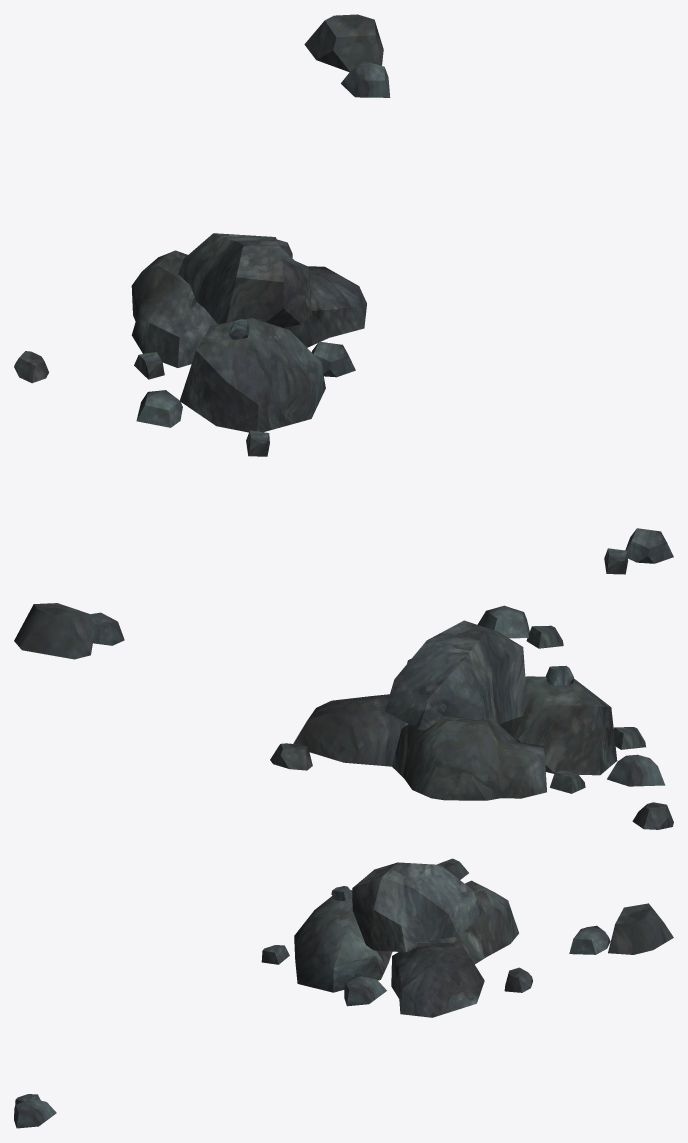
File: object_rubble33.fbx
3 views of the same model, one above another, from view 1: azimuth 30°, elevation 25°; view 2: azimuth 150°, elevation 25°; view 3: azimuth 270°, elevation 25° (orthographic). The views are drawn at different scales.
Visible parts, largest first — view 1: Material_#238683587/cliffside; view 2: Material_#238683587/cliffside; view 3: Material_#238683587/cliffside.
Boxes of the visible parts, bbox=[...] form: Material_#238683587/cliffside: bbox=[14, 14, 673, 574]; Material_#238683587/cliffside: bbox=[14, 603, 673, 829]; Material_#238683587/cliffside: bbox=[14, 858, 673, 1128].
Size of the model in its own units: 4.94 by 2.72 by 6.89.
